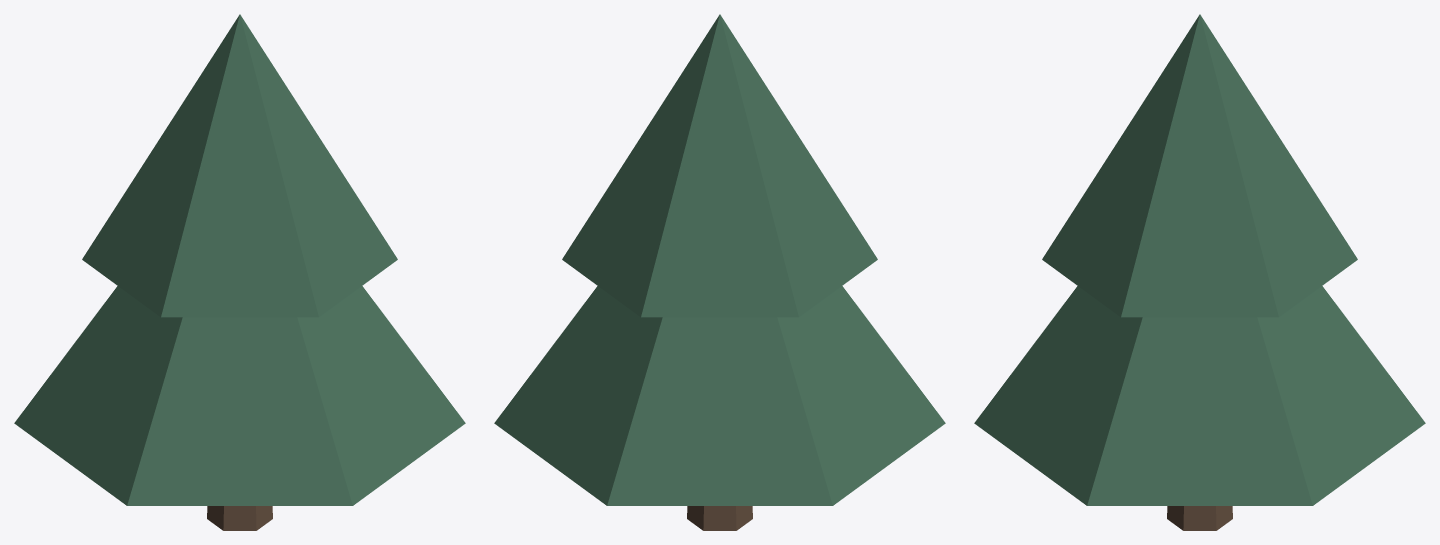
File: pinheiro_baixo.glb
The picture shows the model from 3 angles, left to right: view 1: azimuth 30°, elevation 25°; view 2: azimuth 150°, elevation 25°; view 3: azimuth 270°, elevation 25°; orthographic projection.
Visible parts, largest first — view 1: pinheiro_baixo; view 2: pinheiro_baixo; view 3: pinheiro_baixo.
Part boxes in pixels (<box>): pinheiro_baixo: <box>14,14,465,530</box>; pinheiro_baixo: <box>494,14,945,530</box>; pinheiro_baixo: <box>974,14,1425,530</box>.
Bounding box in the file's own units: 2.6 × 3.7 × 3.
